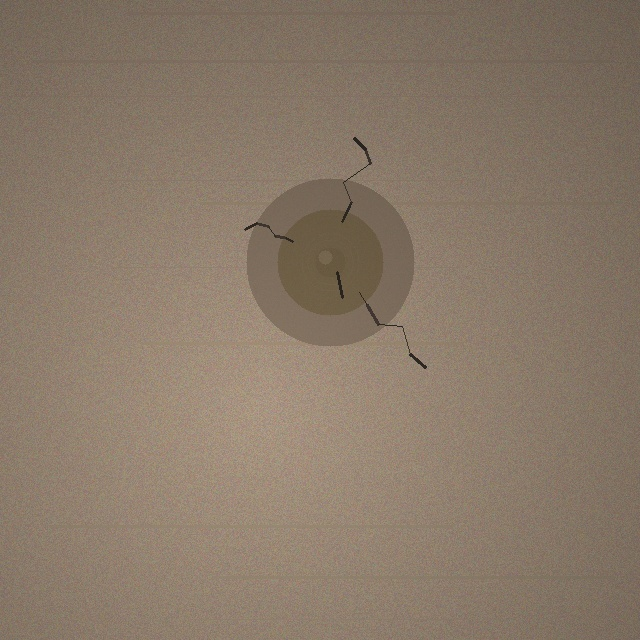crack: (246, 178, 414, 346)
